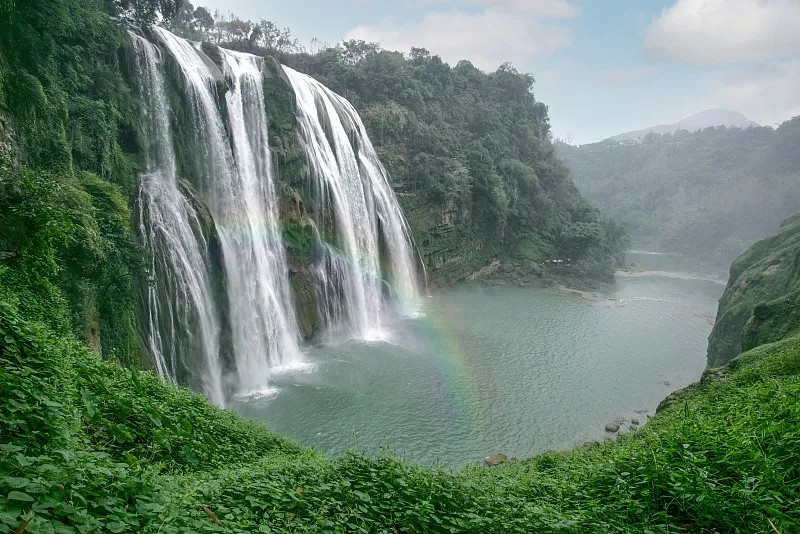Huangguoshu: (130, 20, 428, 409)
